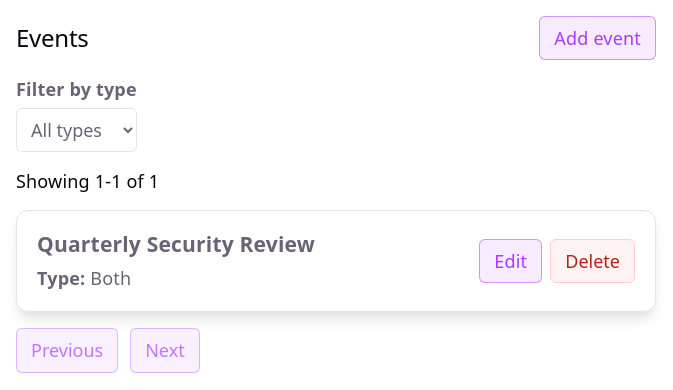
Test: Events › deletes an event after confirmation
The width and height of the screenshot is (673, 390).
Expected: the heading "Quarterly Security Review" is shown, 37,231 -> 315,257
What coordinates should you click on to do the following:
click the button "Delete"
I would click on:
 (593, 261)
Its box is 550,239 -> 635,283.
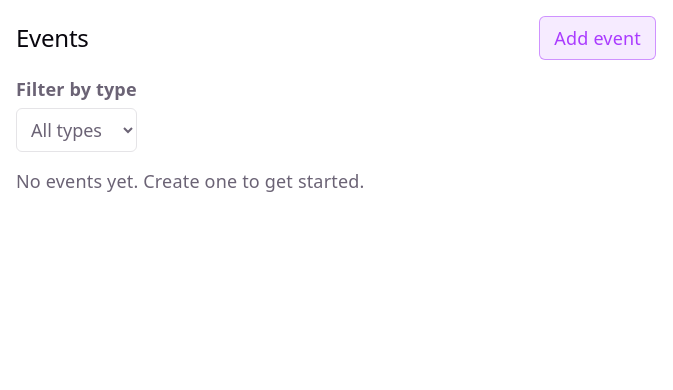
Expected: the text "No events yet. Create one to get started." is shown, 16,169 -> 364,193
